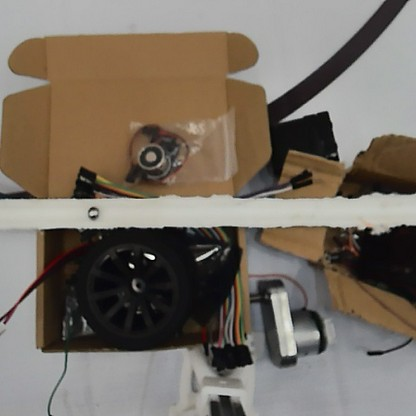ironball: (85, 204, 99, 220)
